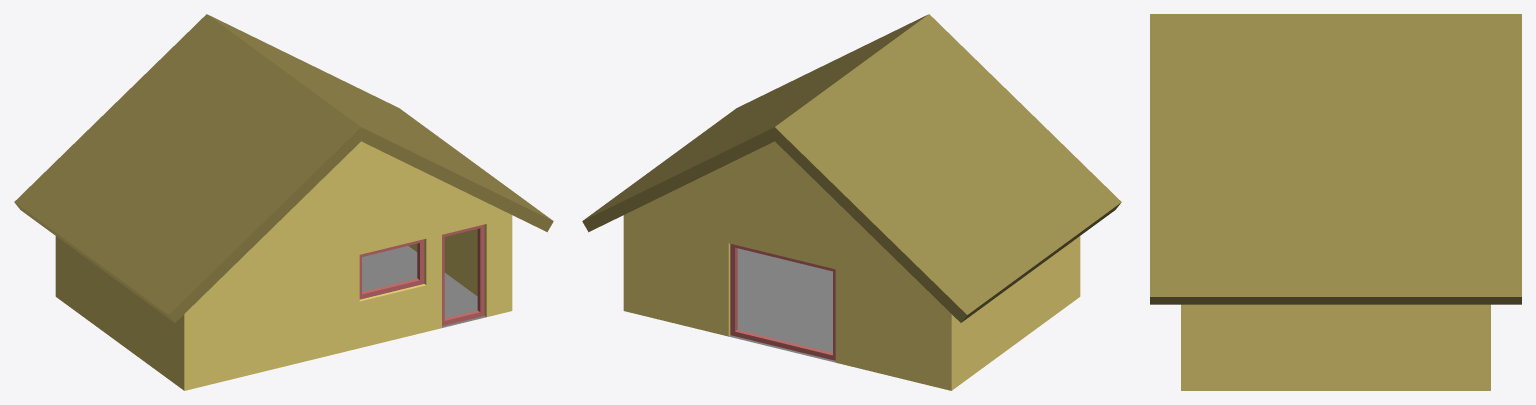
File: result.glb
3 views of the same model, side by side, from view 1: azimuth 30°, elevation 25°; view 2: azimuth 150°, elevation 25°; view 3: azimuth 270°, elevation 25° (orthographic). The views are drawn at different scales.
Parts seen in each view (by area): view 1: 3943cd72-4e8b-4bf2-967c-e90ff3ba6e42__undefined (×2), 53f00d4c-8d17-47d2-8c21-45f5fb1cc835__undefined, 4316b106-6160-4d25-a25d-0a6f6f9ba0b7__Plane_6, 173e3edd-2437-4229-849c-afd50b08fe60__Box, 48555f50-f8be-4d0b-a5c9-36be5a75e5ae__Box_3; view 2: 3943cd72-4e8b-4bf2-967c-e90ff3ba6e42__undefined (×2), 53f00d4c-8d17-47d2-8c21-45f5fb1cc835__undefined, 4316b106-6160-4d25-a25d-0a6f6f9ba0b7__Plane_6, 85c0ad46-f128-4239-aa70-efa0513292cb__Box_9; view 3: 3943cd72-4e8b-4bf2-967c-e90ff3ba6e42__undefined, 53f00d4c-8d17-47d2-8c21-45f5fb1cc835__undefined.
Boxes of the visible parts, box(x1,y1,x2,y2) form: 3943cd72-4e8b-4bf2-967c-e90ff3ba6e42__undefined (×2): box(14, 14, 553, 322); 53f00d4c-8d17-47d2-8c21-45f5fb1cc835__undefined: box(55, 141, 512, 390); 4316b106-6160-4d25-a25d-0a6f6f9ba0b7__Plane_6: box(362, 246, 485, 327); 173e3edd-2437-4229-849c-afd50b08fe60__Box: box(442, 224, 484, 325); 48555f50-f8be-4d0b-a5c9-36be5a75e5ae__Box_3: box(359, 239, 424, 299); 3943cd72-4e8b-4bf2-967c-e90ff3ba6e42__undefined (×2): box(582, 14, 1121, 322); 53f00d4c-8d17-47d2-8c21-45f5fb1cc835__undefined: box(623, 141, 1080, 390); 4316b106-6160-4d25-a25d-0a6f6f9ba0b7__Plane_6: box(729, 248, 835, 362); 85c0ad46-f128-4239-aa70-efa0513292cb__Box_9: box(730, 243, 835, 360); 3943cd72-4e8b-4bf2-967c-e90ff3ba6e42__undefined: box(1150, 14, 1521, 304); 53f00d4c-8d17-47d2-8c21-45f5fb1cc835__undefined: box(1181, 304, 1490, 390).
Bounding box in the file's own units: 864 × 500 × 600.
